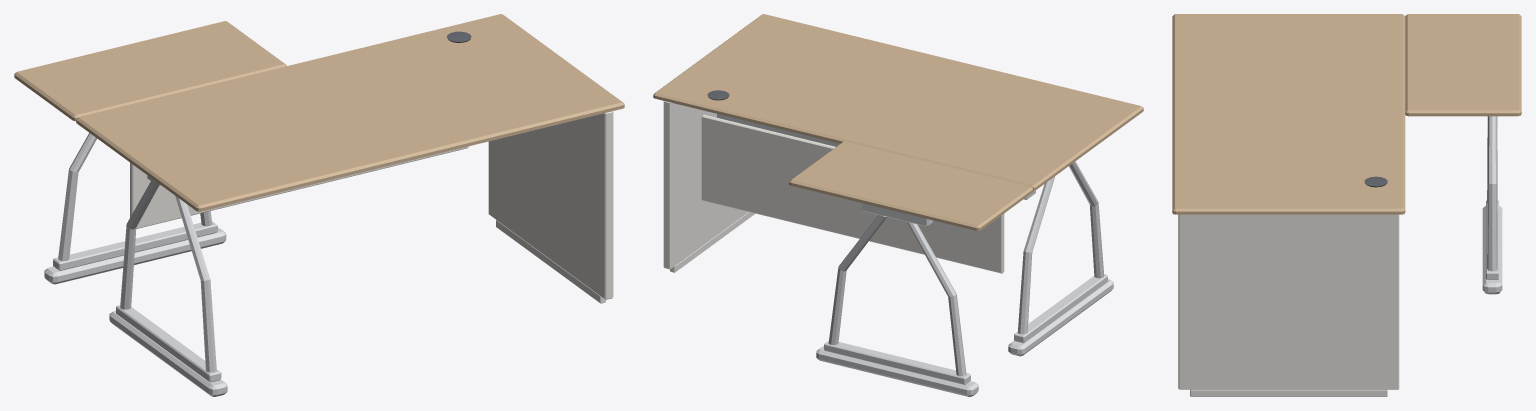
The model's file is downtown-office-interiors-desk-corner-return-22d5a449__16965.glb.
The picture shows the model from 3 angles, left to right: view 1: azimuth 30°, elevation 25°; view 2: azimuth 150°, elevation 25°; view 3: azimuth 270°, elevation 25°; orthographic projection. The views are drawn at different scales.
Visible parts, largest first — view 1: desk-corner-return; view 2: desk-corner-return; view 3: desk-corner-return.
Boxes of the visible parts, x1=… form: desk-corner-return: x1=14, y1=14, x2=624, y2=396; desk-corner-return: x1=653, y1=14, x2=1143, y2=396; desk-corner-return: x1=1172, y1=14, x2=1521, y2=396.
Bounding box in the file's own units: 1.6 × 0.735 × 1.2.
